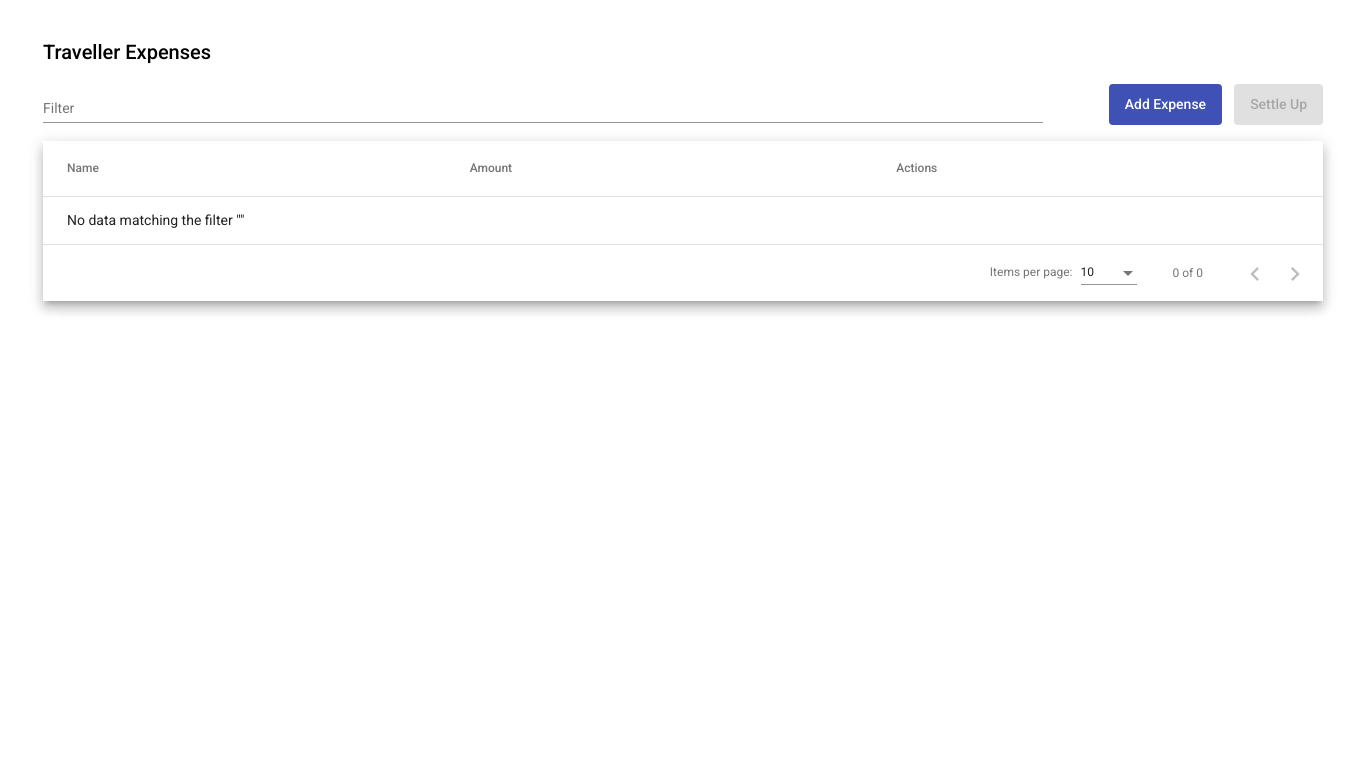
Major Test case › should close add Expense model
Step 1. Click the button "Add Expense" → (1166, 105), box x1=1109 y1=84 x2=1222 y2=125
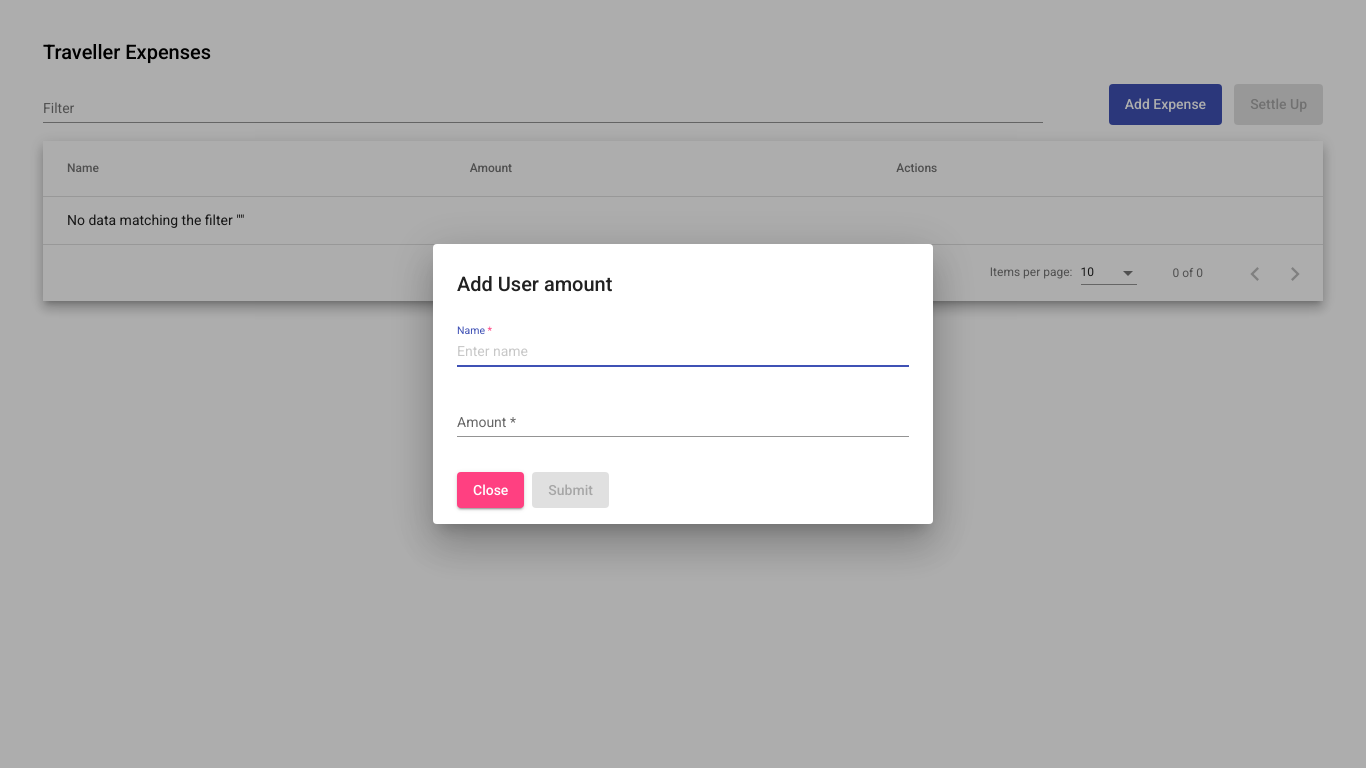
Result: the button "Submit" is shown at x1=532 y1=472 x2=609 y2=508
